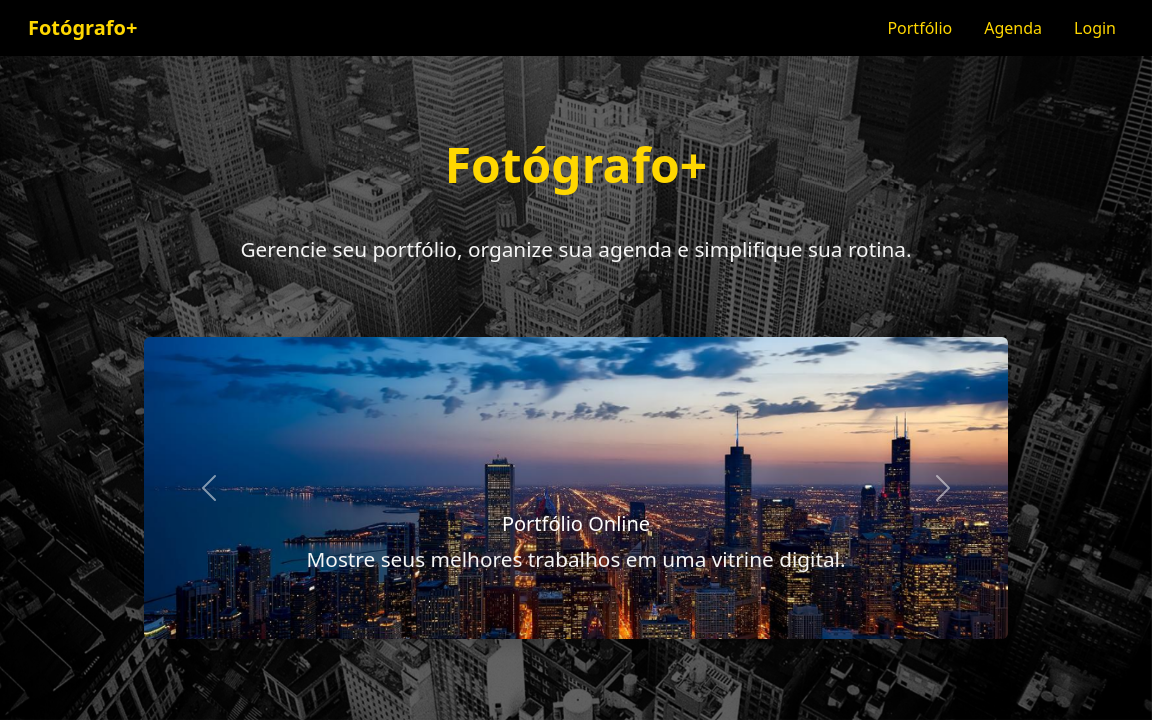
it: Acesso à página de registro sem login › navega até /register a partir da home
Clica no botão Login do menu
Click the link to "/login": click(1095, 28) [1074,17,1116,39]
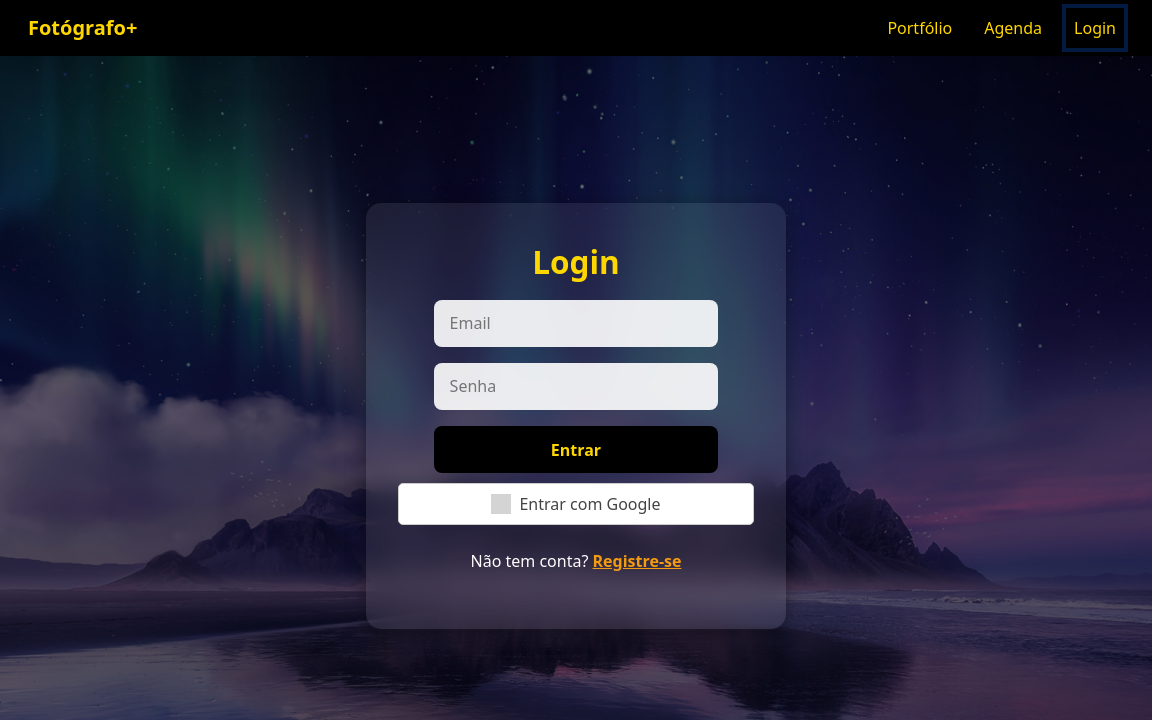
Clica no link Registrar dentro da tela de login
Click the link to "/register": click(638, 561) [593,550,682,572]
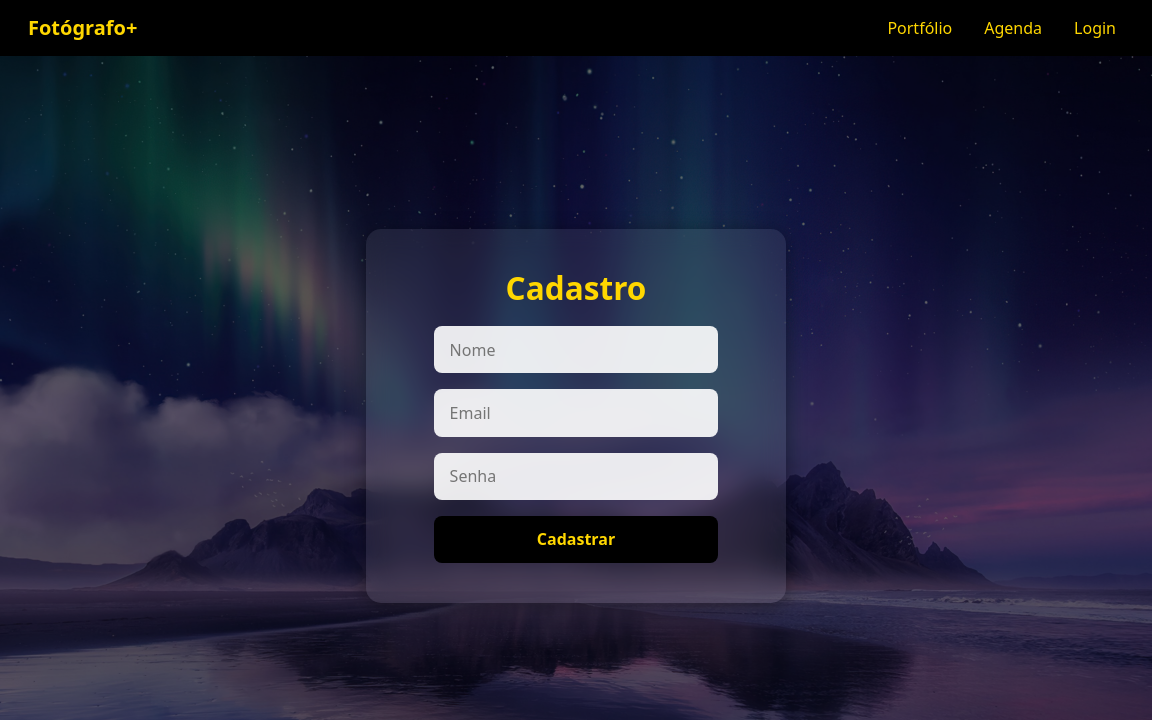
expect the field named "email" is shown: met, box [434,389,719,436]
expect the password field named "password" is shown: met, box [434,453,719,500]
expect the field named "name" is shown: met, box [434,326,719,373]
